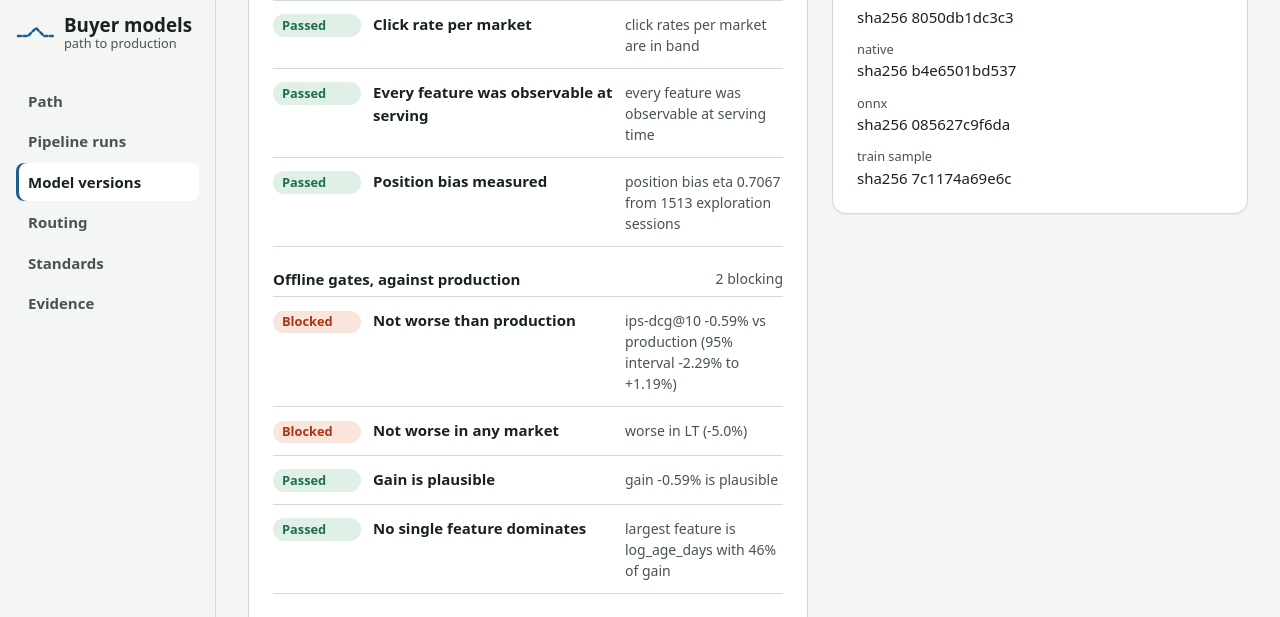
a model version › shows where it stopped, its gates by stage, and the evidence behind one
(page scrolled)
Step 1. Click the 5th button → (317, 322), box [273,297,783,406]
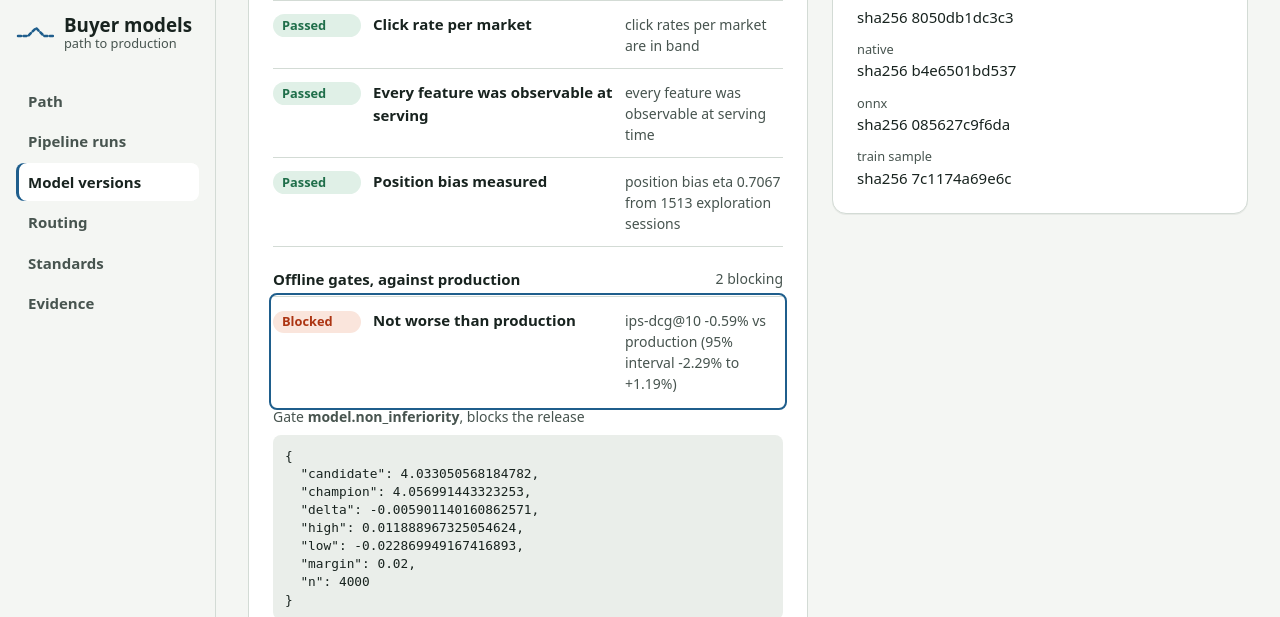
Expected: the text "model.non_inferiority" is shown, [308,407,459,426]
